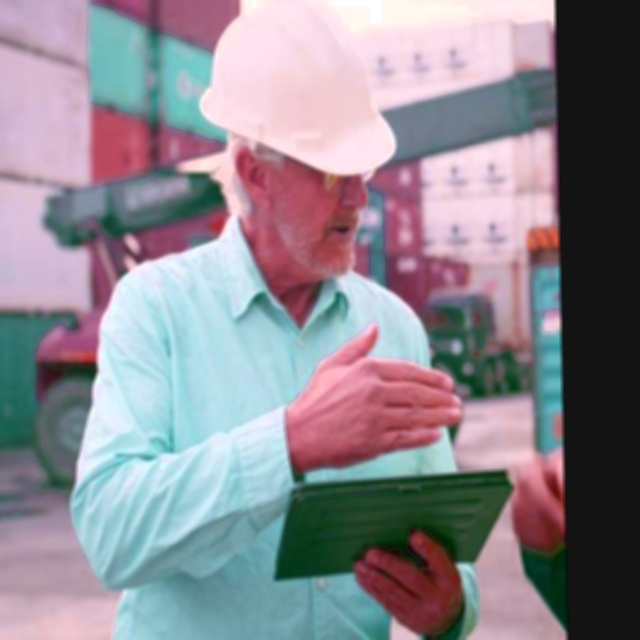Con_Casco: (198, 0, 399, 294)
